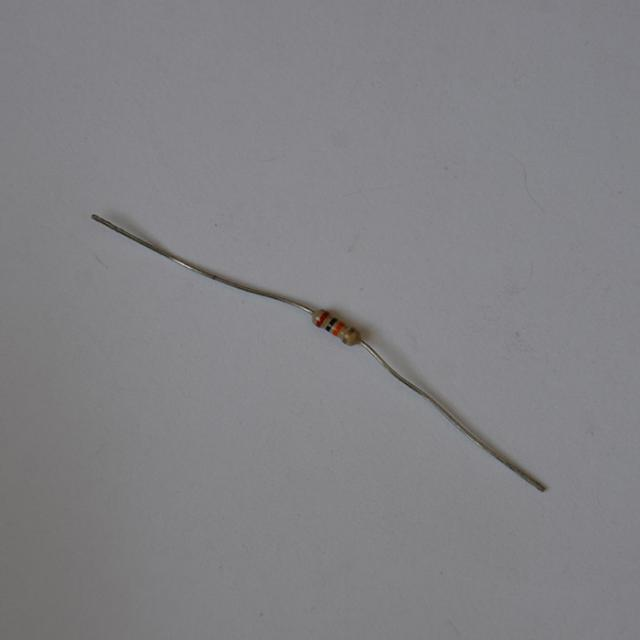black: (326, 318, 338, 331)
gold: (343, 325, 357, 343)
orange: (335, 321, 344, 335)
red: (315, 311, 328, 326)
resistor: (304, 302, 366, 354)
